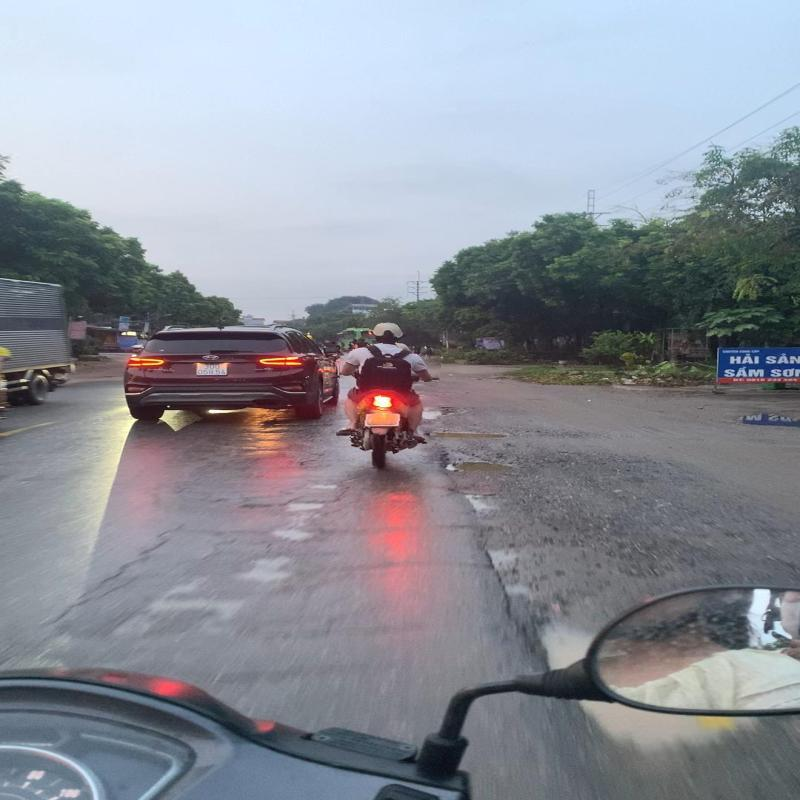helmet: (364, 320, 400, 340)
licenseplate: (361, 412, 402, 428)
motorcyclist: (334, 318, 440, 472)
